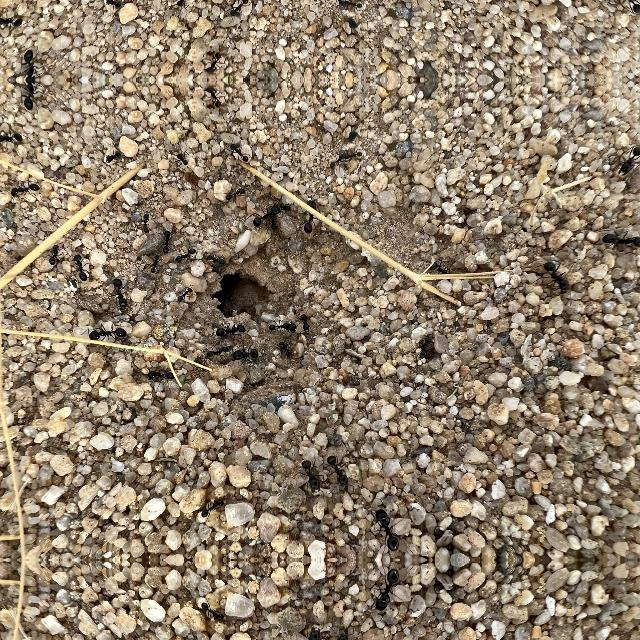Messor: (371, 506, 402, 554), (371, 566, 402, 614), (79, 324, 133, 348), (601, 224, 639, 258), (542, 258, 574, 298), (296, 458, 324, 498), (108, 274, 134, 314), (327, 450, 351, 492), (14, 80, 42, 114), (14, 46, 42, 80), (248, 202, 284, 228), (10, 177, 40, 206), (226, 342, 262, 366), (613, 146, 639, 178), (0, 127, 30, 149), (0, 11, 30, 33), (215, 319, 245, 339), (145, 366, 177, 384), (296, 621, 324, 640), (226, 141, 250, 163), (200, 497, 224, 519), (200, 601, 224, 623), (72, 253, 90, 280), (225, 0, 250, 19), (203, 84, 223, 106), (324, 148, 344, 170), (203, 54, 223, 76), (44, 242, 62, 266), (206, 342, 230, 360), (416, 336, 432, 359), (160, 228, 174, 254), (613, 0, 639, 14), (103, 147, 123, 165), (206, 250, 226, 268), (277, 339, 293, 361), (148, 251, 162, 275), (223, 186, 244, 202), (271, 318, 291, 334), (269, 200, 295, 212), (327, 627, 351, 640), (344, 149, 366, 163), (297, 311, 311, 333), (269, 211, 283, 233), (176, 248, 194, 264), (139, 210, 151, 234), (179, 282, 193, 302), (103, 0, 123, 13), (176, 150, 192, 166), (344, 0, 365, 11), (324, 0, 343, 12), (176, 0, 192, 9)
